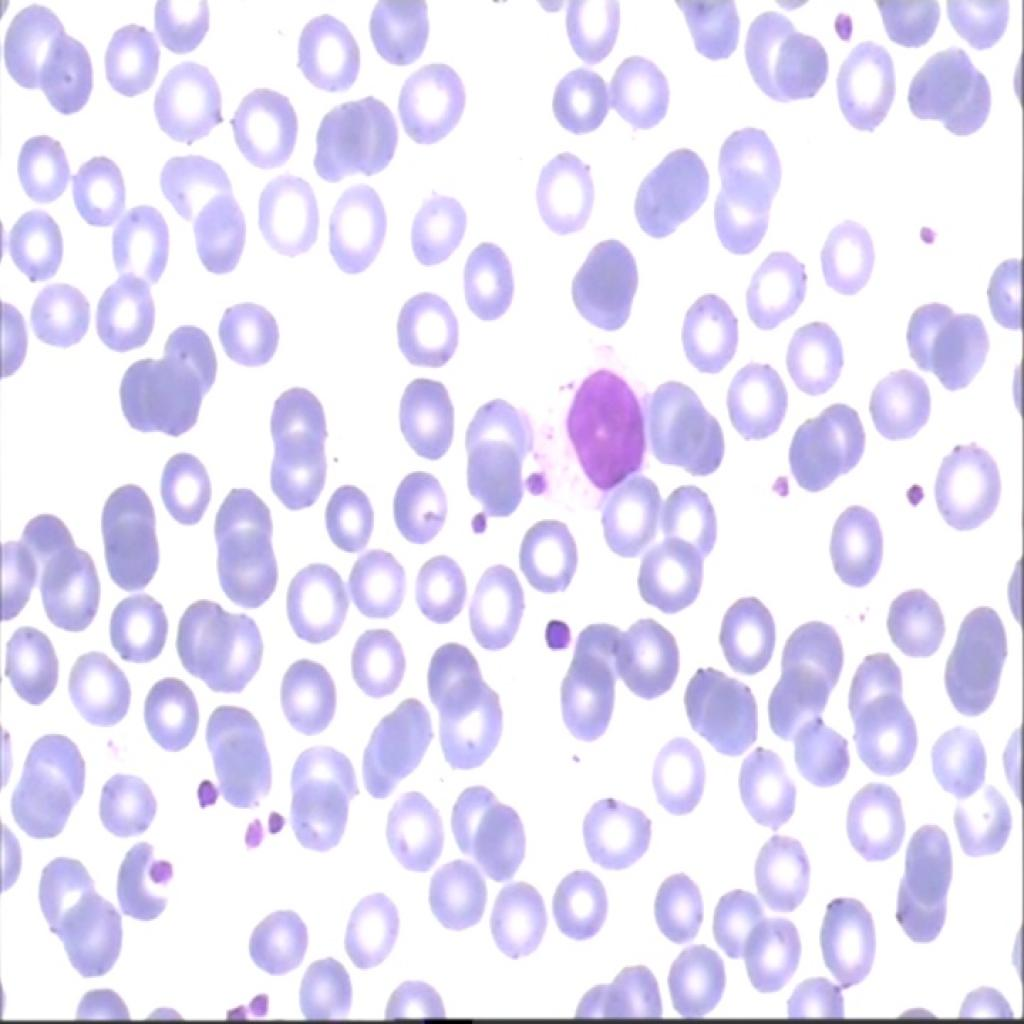Monosit: (546, 352, 652, 501)
Platelet: (533, 604, 572, 662), (895, 473, 937, 521), (142, 852, 175, 906), (188, 770, 218, 821), (831, 4, 859, 52), (238, 804, 264, 854), (459, 503, 495, 535), (914, 214, 942, 254), (768, 458, 791, 500), (245, 988, 273, 1022), (264, 806, 288, 844), (528, 460, 548, 498)
